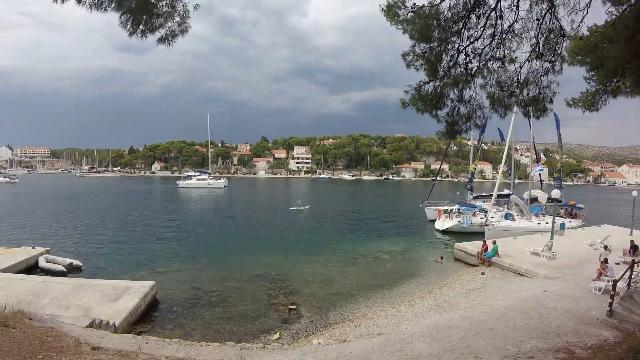Freighter: (78, 164, 126, 180)
Sailboat: (169, 166, 233, 192), (1, 172, 26, 186)
